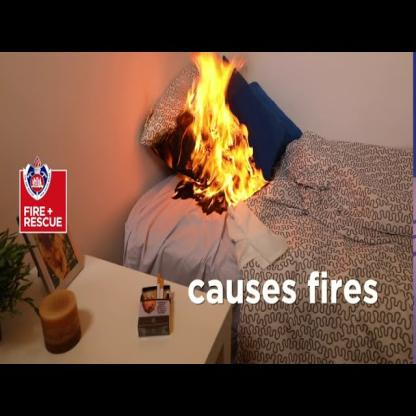fire: (179, 52, 272, 208)
